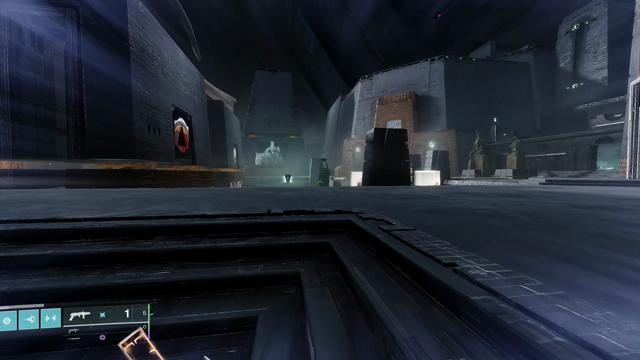pyramid: (174, 117, 190, 153)
